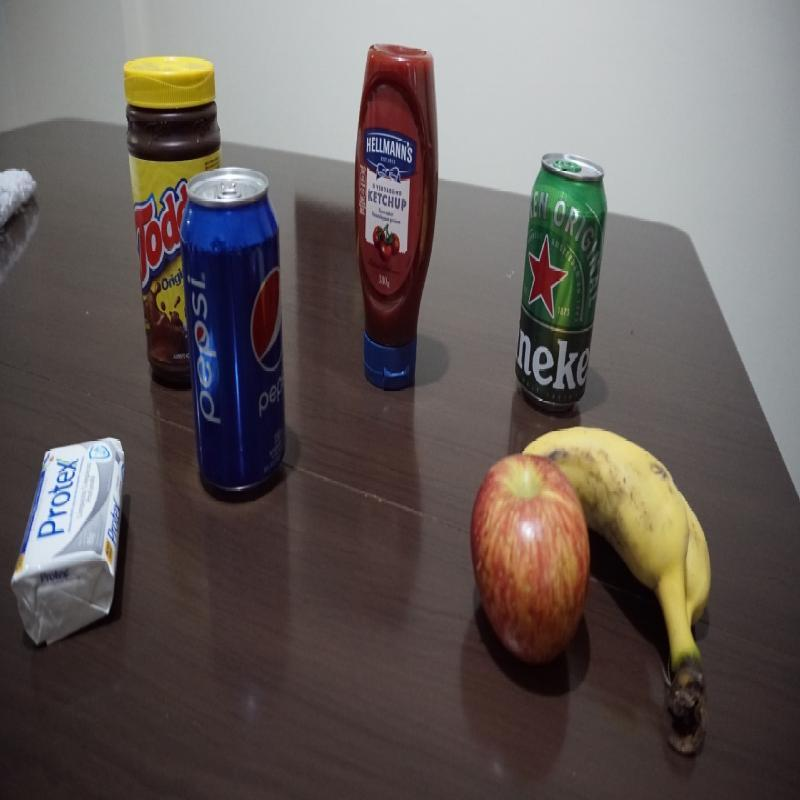Apple: (472, 453, 587, 666)
Banana: (584, 423, 719, 748)
Beer can: (520, 152, 604, 408)
Chocolate Powder: (123, 52, 183, 396)
Ketchup: (353, 40, 437, 394)
Soap: (17, 439, 127, 640)
Soda can: (185, 169, 287, 500)
